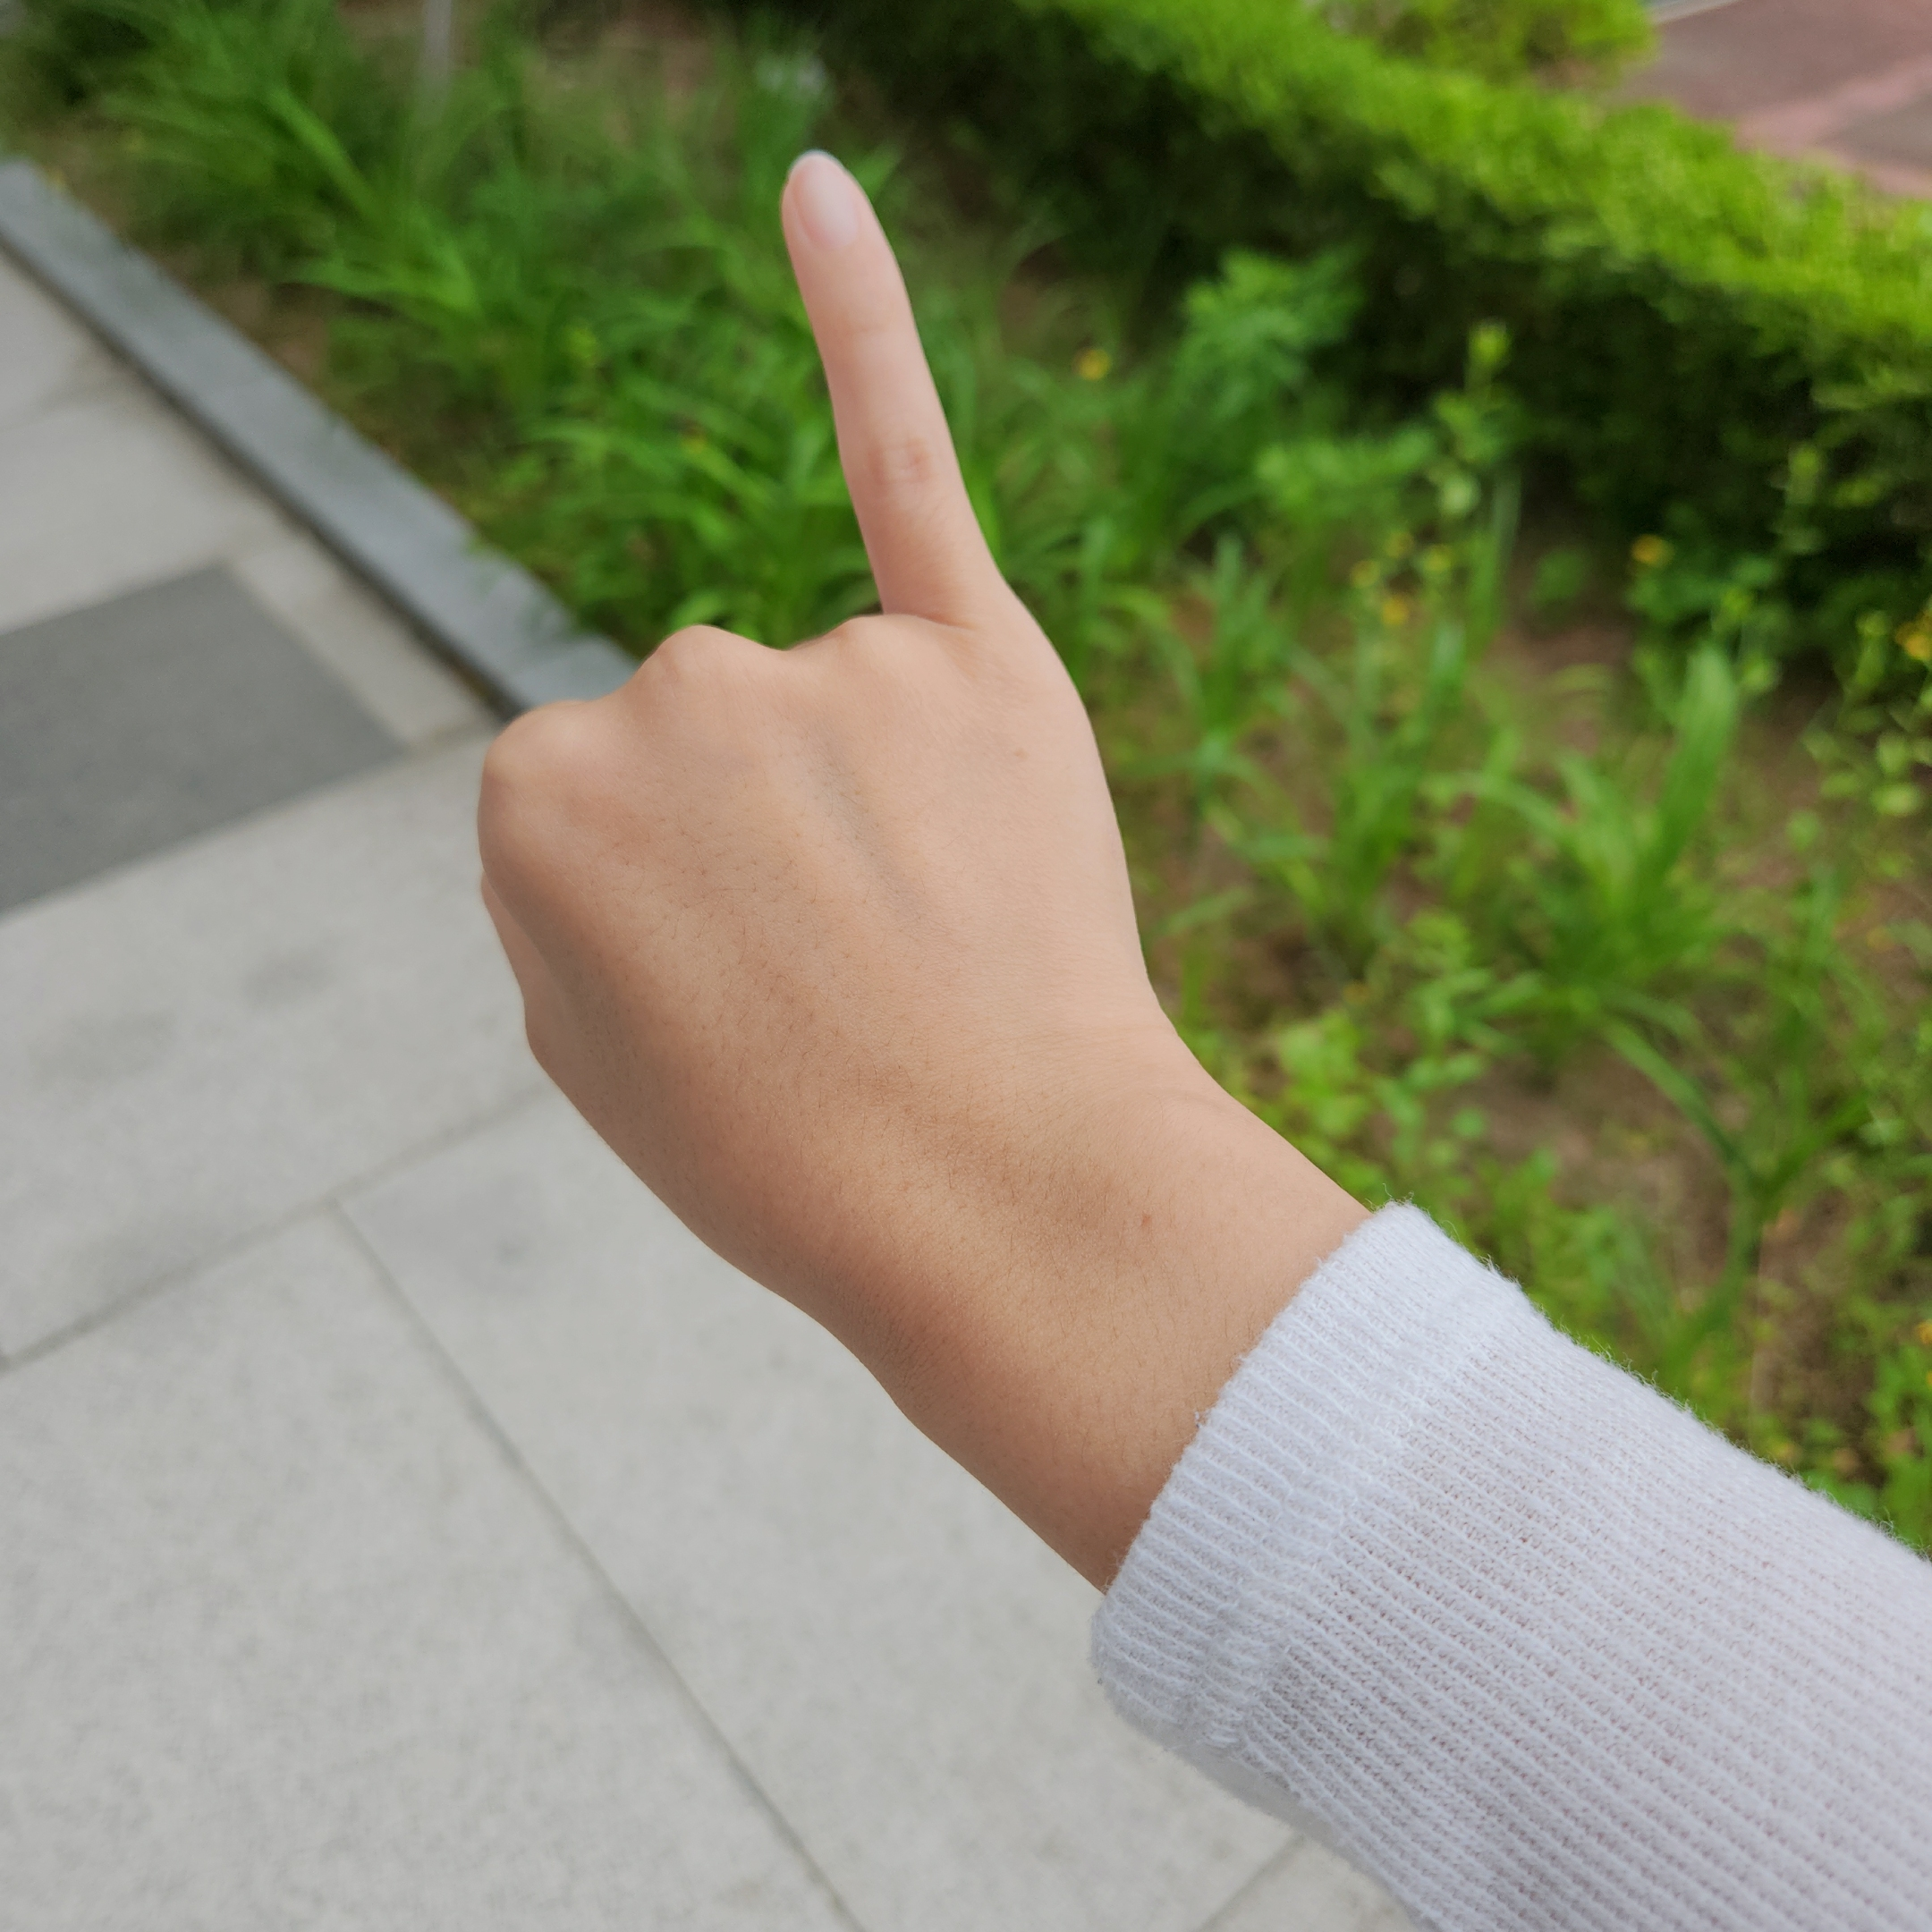fine: (474, 150, 1152, 1288)
